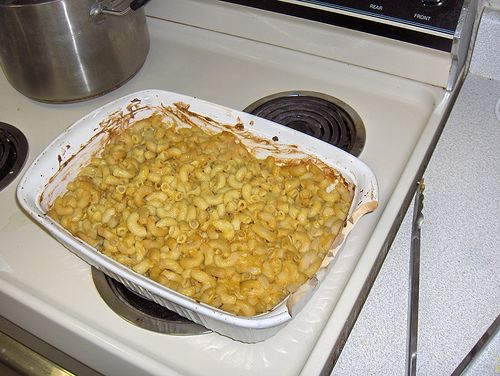macncheese: (41, 96, 357, 319)
